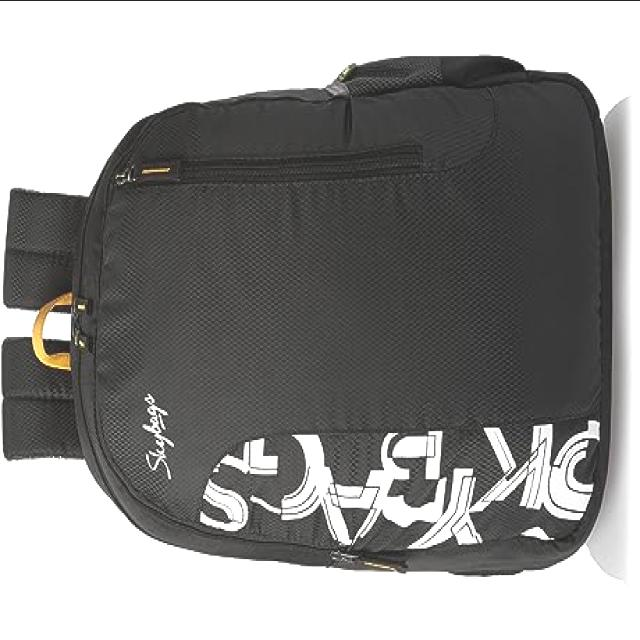backpack: (1, 47, 623, 586)
